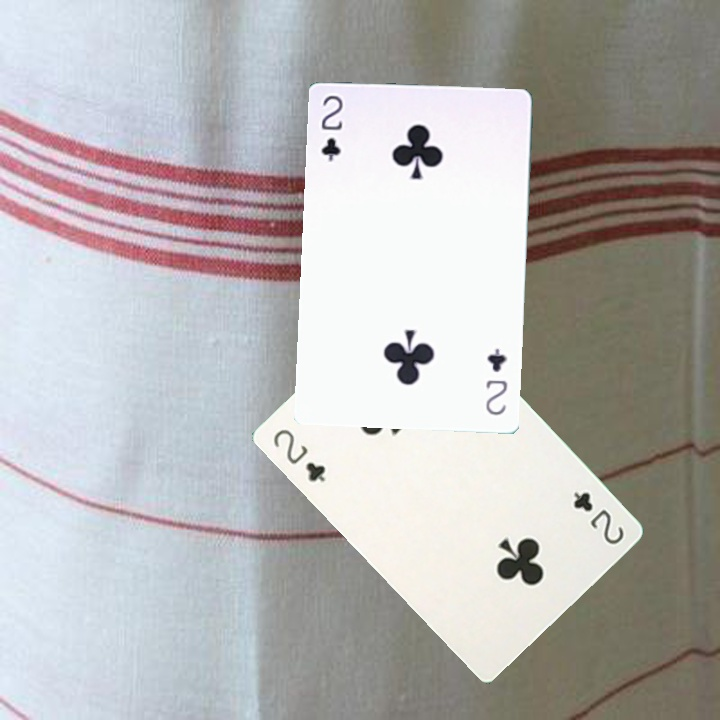2c: (269, 424, 328, 485), (569, 488, 627, 547), (317, 91, 346, 165), (482, 344, 510, 418)
